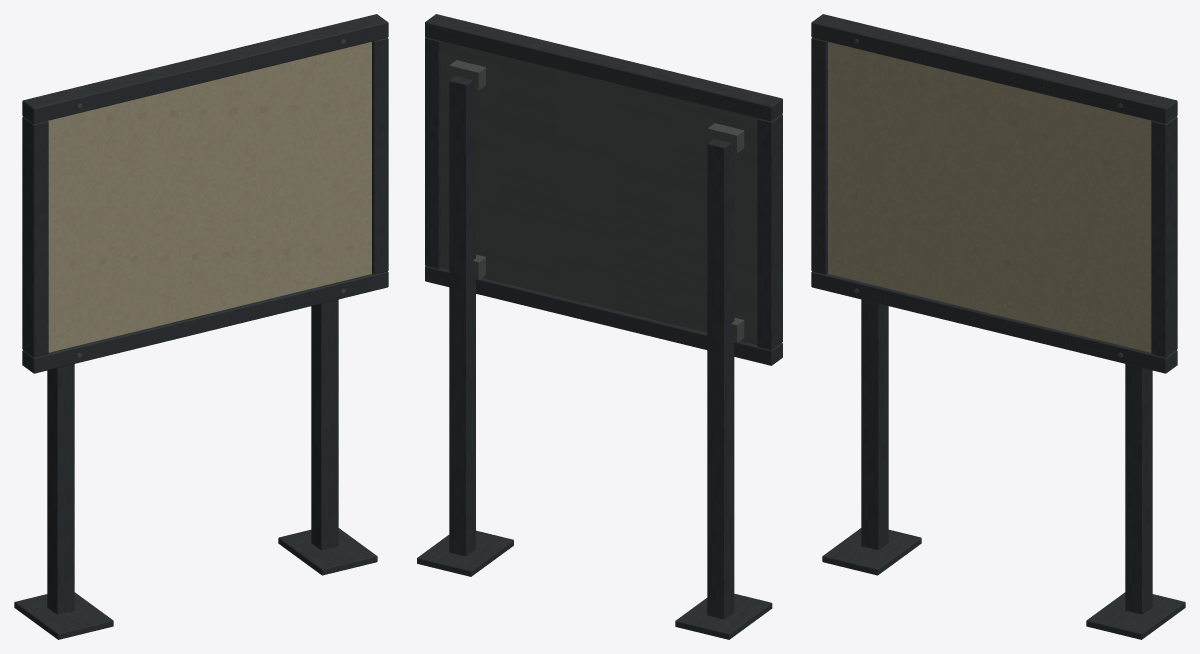
The model's file is sticker_board.glb.
3 views of the same model, side by side, from view 1: azimuth 30°, elevation 25°; view 2: azimuth 150°, elevation 25°; view 3: azimuth 330°, elevation 25° (orthographic). The views are drawn at different scales.
Visible parts, largest first — view 1: StickerSurface, TopRail, RightPost, LeftPost, BottomRail, LeftRail, RightRail, LeftFootPlate, RightFootPlate; view 2: BackingPanel, LeftPost, RightPost, TopRail, LeftRail, BottomRail, RightRail, LeftFootPlate, RightFootPlate, LeftUpperBracket, RightUpperBracket; view 3: StickerSurface, TopRail, LeftPost, RightPost, BottomRail, RightRail, LeftRail, RightFootPlate, LeftFootPlate.
Boxes of the visible parts, x1=… form: StickerSurface: x1=48, y1=42, x2=371, y2=352; TopRail: x1=22, y1=14, x2=388, y2=123; RightPost: x1=311, y1=299, x2=338, y2=550; LeftPost: x1=47, y1=364, x2=74, y2=614; BottomRail: x1=22, y1=271, x2=388, y2=373; LeftRail: x1=22, y1=116, x2=48, y2=357; RightRail: x1=372, y1=38, x2=388, y2=274; LeftFootPlate: x1=14, y1=592, x2=113, y2=639; RightFootPlate: x1=278, y1=528, x2=377, y2=575; BackingPanel: x1=441, y1=41, x2=757, y2=344; LeftPost: x1=707, y1=139, x2=734, y2=619; RightPost: x1=449, y1=76, x2=475, y2=556; TopRail: x1=425, y1=14, x2=782, y2=121; LeftRail: x1=757, y1=114, x2=782, y2=350; BottomRail: x1=425, y1=266, x2=782, y2=365; RightRail: x1=425, y1=37, x2=441, y2=268; LeftFootPlate: x1=675, y1=593, x2=772, y2=639; RightFootPlate: x1=417, y1=530, x2=513, y2=576; LeftUpperBracket: x1=707, y1=123, x2=744, y2=153; RightUpperBracket: x1=449, y1=60, x2=485, y2=90; StickerSurface: x1=828, y1=42, x2=1151, y2=352; TopRail: x1=811, y1=14, x2=1177, y2=123; LeftPost: x1=861, y1=299, x2=888, y2=550; RightPost: x1=1125, y1=364, x2=1152, y2=614; BottomRail: x1=811, y1=271, x2=1177, y2=373; RightRail: x1=1151, y1=116, x2=1177, y2=357; LeftRail: x1=811, y1=38, x2=827, y2=274; RightFootPlate: x1=1086, y1=592, x2=1185, y2=639; LeftFootPlate: x1=822, y1=528, x2=921, y2=575.
Bounding box in the file's own units: 1.4 × 2 × 0.3.
4 materials, 4 textured.
